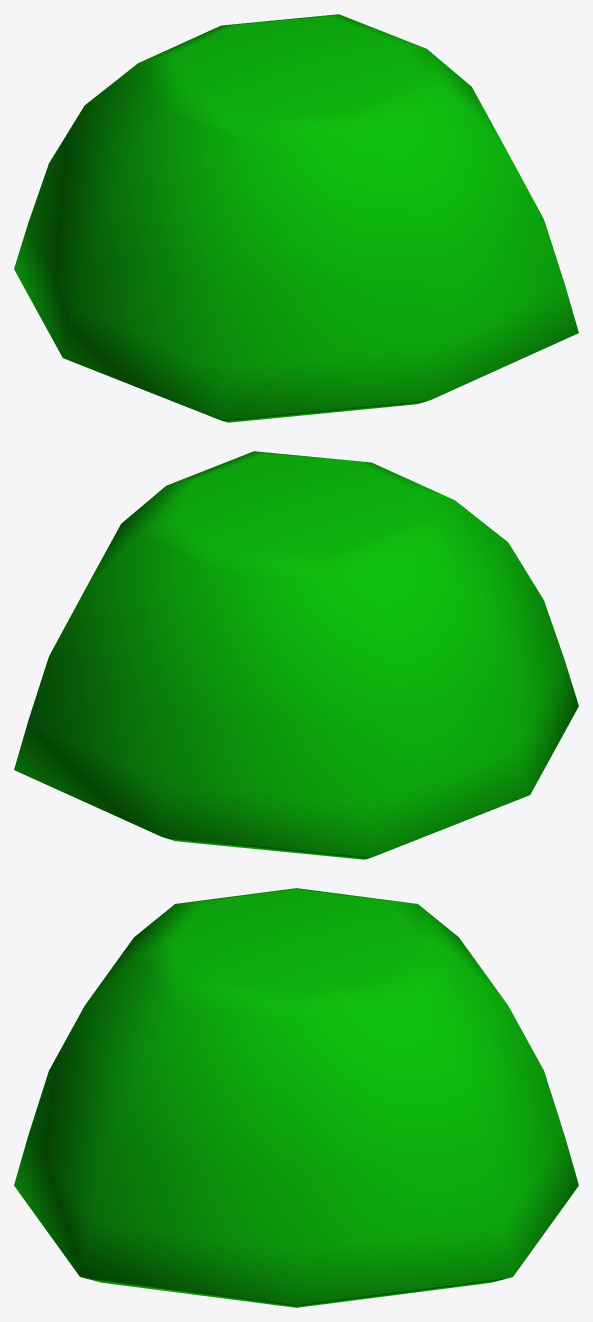
The model's file is Gumbo.fbx.
3 views of the same model, one above another, from view 1: azimuth 30°, elevation 25°; view 2: azimuth 150°, elevation 25°; view 3: azimuth 270°, elevation 25° (orthographic). The views are drawn at different scales.
Parts seen in each view (by area): view 1: Jello; view 2: Jello; view 3: Jello.
Boxes of the visible parts, x1=… form: Jello: x1=14, y1=14, x2=578, y2=422; Jello: x1=14, y1=451, x2=578, y2=859; Jello: x1=14, y1=888, x2=578, y2=1307.
Bounding box in the file's own units: 1.52 × 0.7719 × 1.52.
